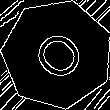O_SE: (24, 21, 91, 87)
